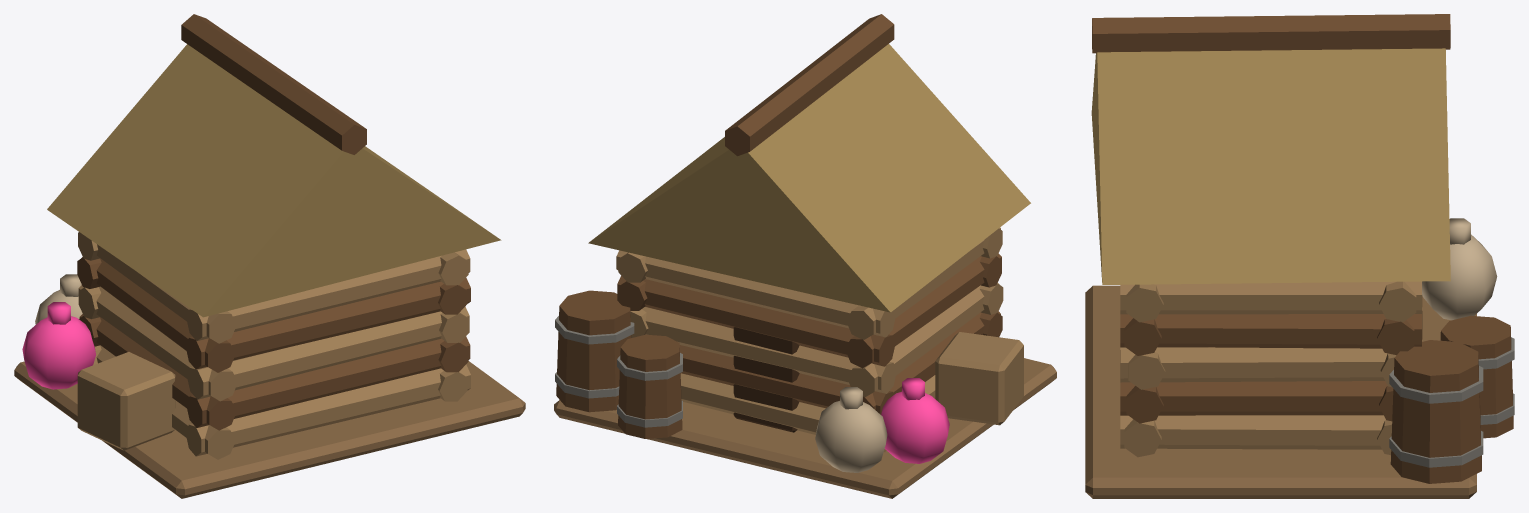
The model's file is storage_hut.fbx.
The picture shows the model from 3 angles, left to right: view 1: azimuth 30°, elevation 25°; view 2: azimuth 150°, elevation 25°; view 3: azimuth 270°, elevation 25°; orthographic projection. The views are drawn at different scales.
Visible parts, largest first — view 1: Building; view 2: Building; view 3: Building.
Part boxes in pixels (x1,y1,x2,y2): Building: [14, 14, 525, 498]; Building: [554, 14, 1056, 498]; Building: [1085, 14, 1514, 498].
Size of the model in its own units: 1.3 by 1.1 by 1.09.
